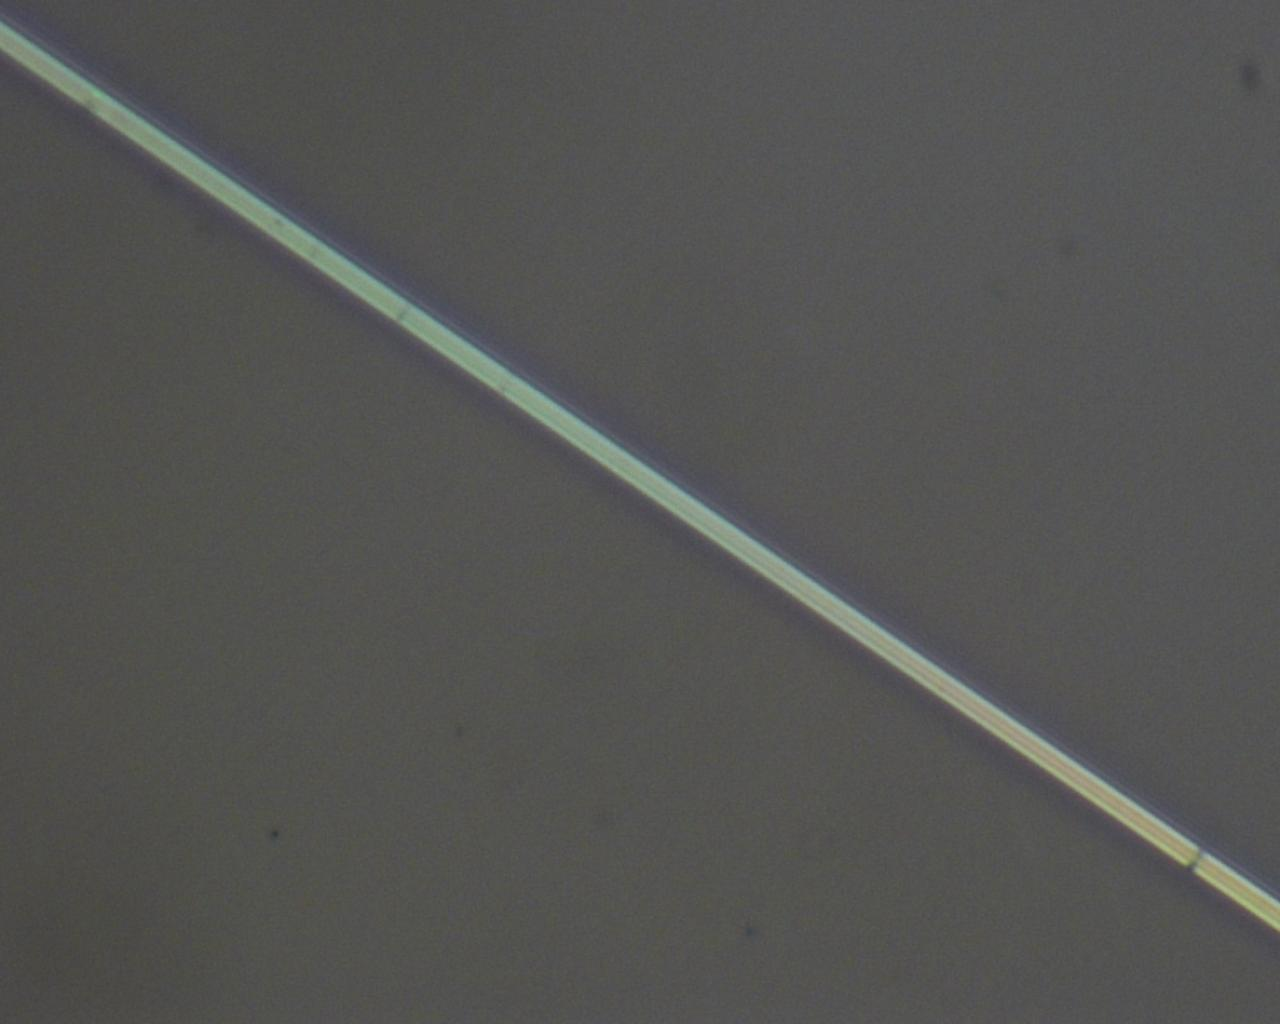fiber: (526, 0, 738, 317), (890, 317, 965, 1024), (478, 914, 742, 1024)
